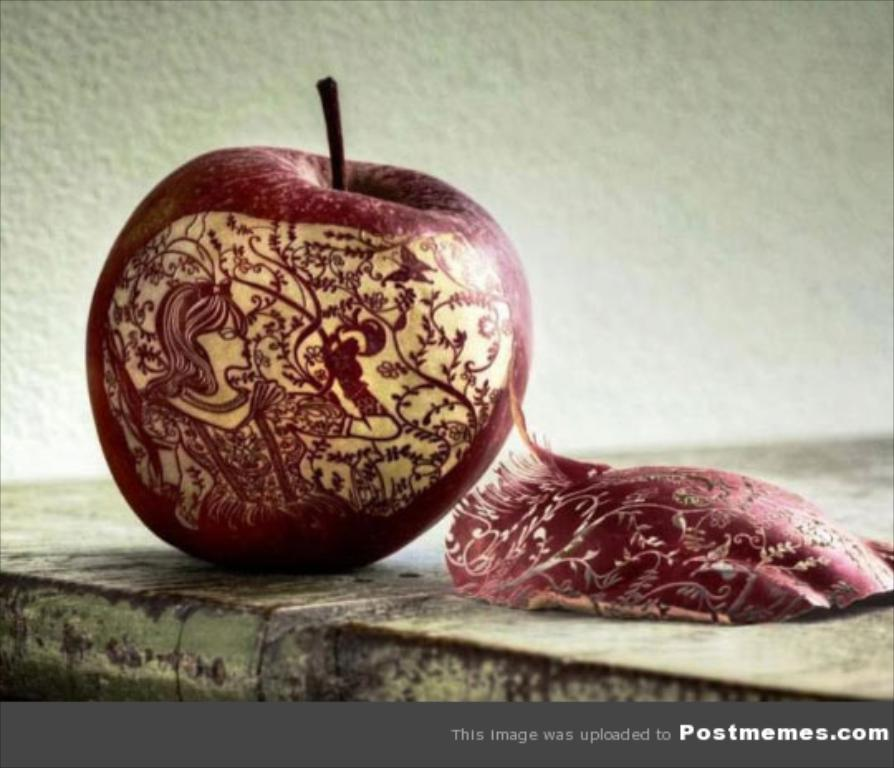Apple: (79, 66, 538, 571)
